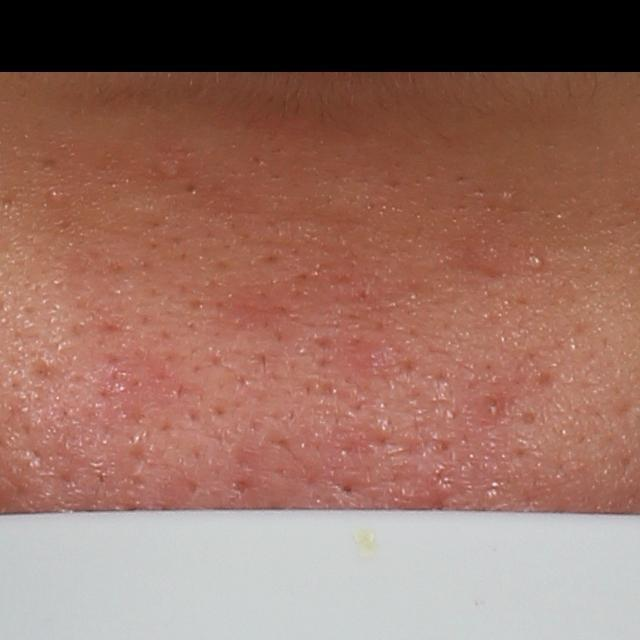atrophic_scar: (24, 360, 68, 388)
comedo: (515, 407, 542, 431), (181, 180, 201, 200), (48, 187, 68, 206)
pustule: (521, 246, 551, 275)
